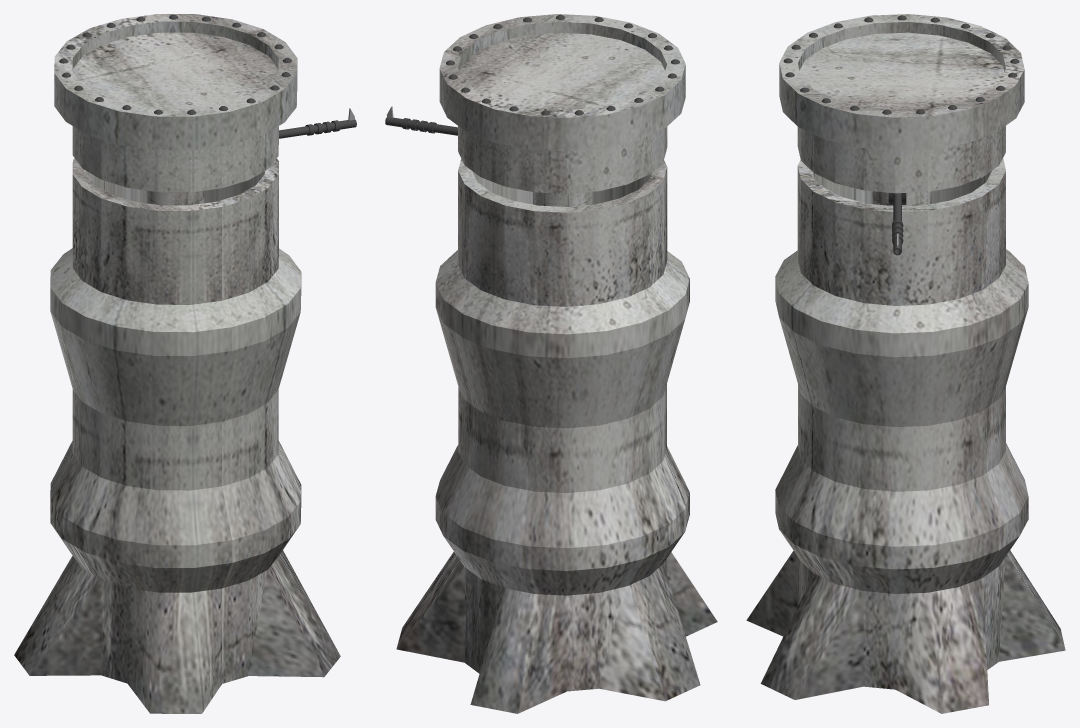
The model's file is Tower_Concrete_Light.fbx.
3 renders of one model, left to right at view 1: azimuth 30°, elevation 25°; view 2: azimuth 150°, elevation 25°; view 3: azimuth 270°, elevation 25°, orthographic.
Visible parts, largest first — view 1: polySurface191, pPipe2; view 2: polySurface191, pPipe2; view 3: polySurface191, pPipe2.
Part boxes in pixels (box(x1,y1,x2,y2)): polySurface191: box(14, 14, 340, 713); pPipe2: box(279, 108, 356, 138); polySurface191: box(396, 14, 717, 713); pPipe2: box(385, 106, 457, 135); polySurface191: box(746, 14, 1065, 713); pPipe2: box(888, 193, 906, 255).
Bounding box in the file's own units: 320 × 557 × 277.
Materials: 2 (1 with a texture image).
